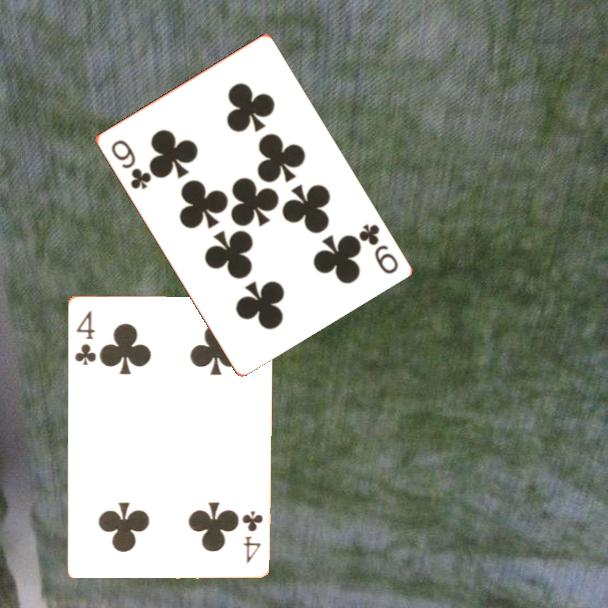c04: (71, 307, 98, 367), (239, 507, 265, 566)
c09: (107, 136, 154, 192), (355, 220, 401, 277)
